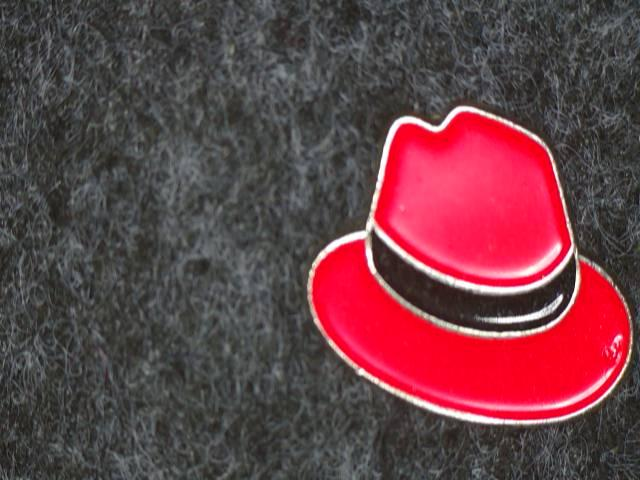Red-Hat: (267, 86, 640, 439)
